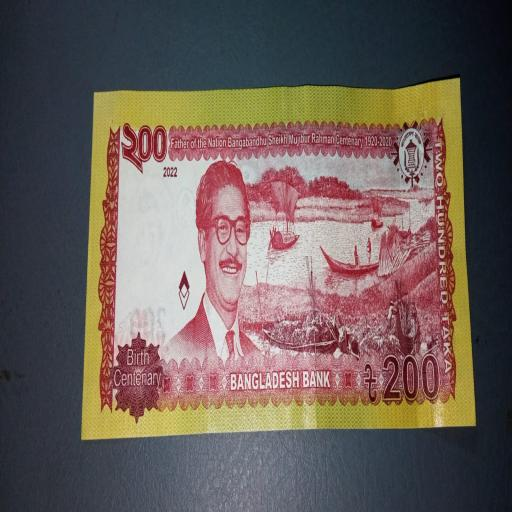200taka: (82, 79, 475, 438)
